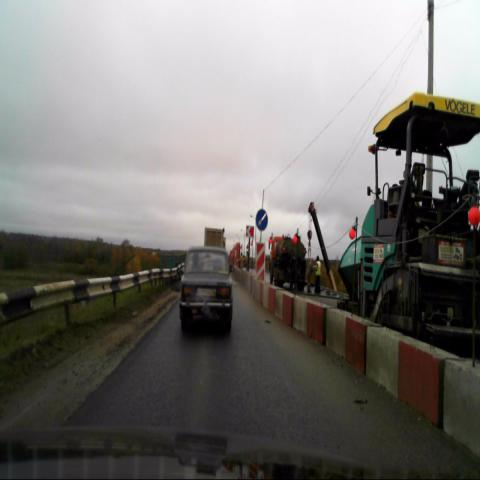4_2_2: (255, 208, 268, 230)
